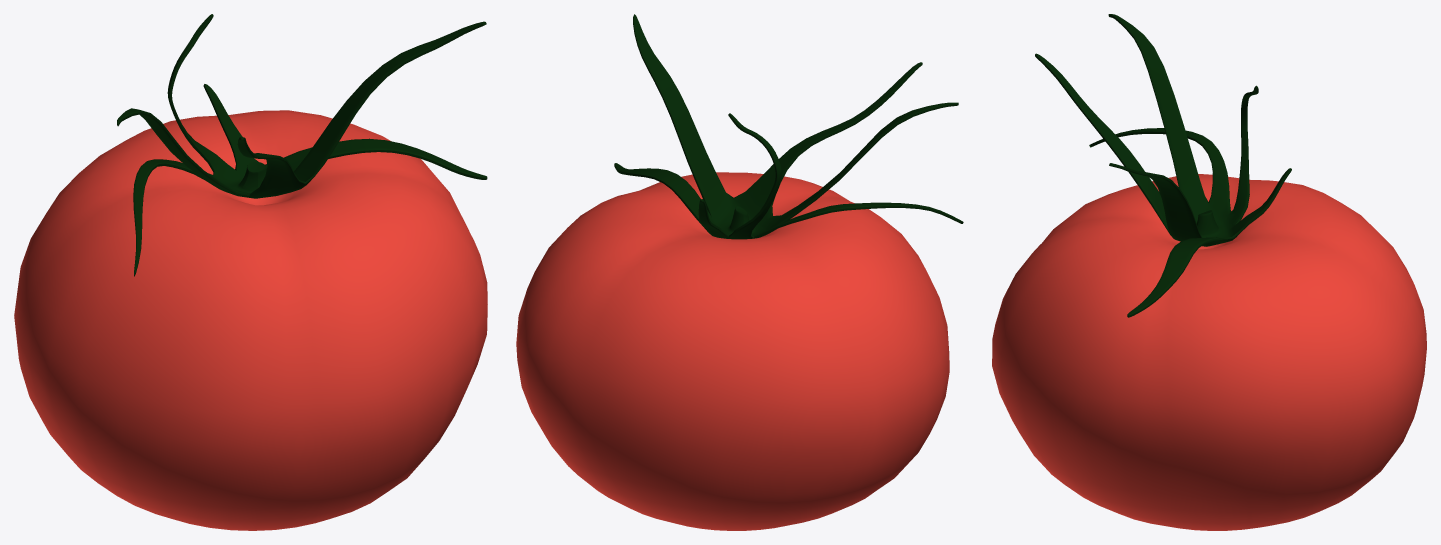
The model's file is Tomato_04.fbx.
3 renders of one model, left to right at view 1: azimuth 30°, elevation 25°; view 2: azimuth 150°, elevation 25°; view 3: azimuth 270°, elevation 25°, orthographic. The views are drawn at different scales.
Visible parts, largest first — view 1: TomatoSample4_LOD0; view 2: TomatoSample4_LOD0; view 3: TomatoSample4_LOD0.
Boxes of the visible parts, x1,y1,x2,y2 form: TomatoSample4_LOD0: [14, 14, 487, 530]; TomatoSample4_LOD0: [516, 14, 963, 530]; TomatoSample4_LOD0: [992, 14, 1426, 530].
Size of what is drawn, in the model's own units: 34.54 by 37.62 by 35.04.
